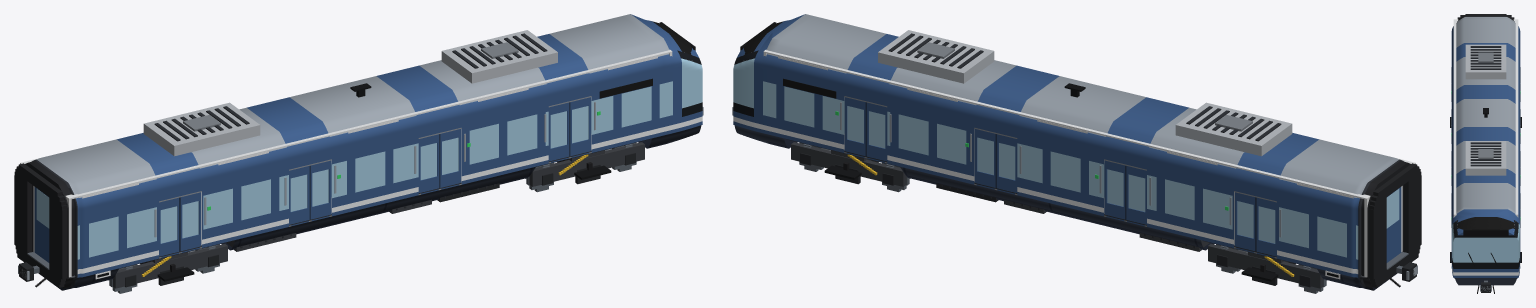
File: moskva_front.obj
3 renders of one model, left to right at view 1: azimuth 30°, elevation 25°; view 2: azimuth 150°, elevation 25°; view 3: azimuth 270°, elevation 25°, orthographic. The views are drawn at different scales.
Visible parts, largest first — view 1: SHELL, SHELL_roof, SHELL_diaphragm, BOGEY_FRONT, BOGEY_REAR, SHELL_ceiling, FRAME, EXTERNAL_DOOR_21_CG_DR4_TOGGLE_TL_-0.59_X, EXTERNAL_DOOR_15_CG_DR3_TOGGLE_TL_-0.59_X, EXTERNAL_DOOR_9_CG_DR2_TOGGLE_TL_-0.59_X, EXTERNAL_DOOR_3_CG_DR1_TOGGLE_TL_-0.59_X, EXTERNAL_DOOR_4_CG_DR1_TOGGLE_TL_0.59_X (+7 smaller); view 2: SHELL, SHELL_roof, SHELL_diaphragm, BOGEY_FRONT, BOGEY_REAR, SHELL_ceiling, FRAME, EXTERNAL_DOOR_24_CG_DL4_TOGGLE_TL_-0.59_X, EXTERNAL_DOOR_18_CG_DL3_TOGGLE_TL_-0.59_X, EXTERNAL_DOOR_12_CG_DL2_TOGGLE_TL_-0.59_X, EXTERNAL_DOOR_6_CG_DL1_TOGGLE_TL_-0.59_X, EXTERNAL_DOOR_7_CG_DL1_TOGGLE_TL_0.59_X (+7 smaller); view 3: SHELL, SHELL_roof, SHELL_ceiling, SHELL_destbox, SHELL_handle, FRAME.
Boxes of the visible parts, bbox=[...] form: SHELL: bbox=[25, 14, 702, 290]; SHELL_roof: bbox=[143, 30, 557, 156]; SHELL_diaphragm: bbox=[14, 163, 66, 287]; BOGEY_FRONT: bbox=[529, 142, 644, 186]; BOGEY_REAR: bbox=[112, 244, 227, 288]; SHELL_ceiling: bbox=[22, 16, 669, 199]; FRAME: bbox=[18, 107, 703, 287]; EXTERNAL_DOOR_21_CG_DR4_TOGGLE_TL_-0.59_X: bbox=[548, 102, 570, 161]; EXTERNAL_DOOR_15_CG_DR3_TOGGLE_TL_-0.59_X: bbox=[418, 134, 440, 192]; EXTERNAL_DOOR_9_CG_DR2_TOGGLE_TL_-0.59_X: bbox=[289, 165, 310, 224]; EXTERNAL_DOOR_3_CG_DR1_TOGGLE_TL_-0.59_X: bbox=[159, 197, 180, 256]; EXTERNAL_DOOR_4_CG_DR1_TOGGLE_TL_0.59_X: bbox=[180, 192, 201, 251]; SHELL: bbox=[733, 14, 1410, 290]; SHELL_roof: bbox=[878, 30, 1292, 156]; SHELL_diaphragm: bbox=[1369, 163, 1421, 287]; BOGEY_FRONT: bbox=[791, 142, 906, 186]; BOGEY_REAR: bbox=[1208, 244, 1323, 288]; SHELL_ceiling: bbox=[766, 16, 1413, 199]; FRAME: bbox=[732, 107, 1417, 287]; EXTERNAL_DOOR_24_CG_DL4_TOGGLE_TL_-0.59_X: bbox=[865, 102, 887, 161]; EXTERNAL_DOOR_18_CG_DL3_TOGGLE_TL_-0.59_X: bbox=[995, 134, 1017, 192]; EXTERNAL_DOOR_12_CG_DL2_TOGGLE_TL_-0.59_X: bbox=[1125, 165, 1146, 224]; EXTERNAL_DOOR_6_CG_DL1_TOGGLE_TL_-0.59_X: bbox=[1255, 197, 1276, 256]; EXTERNAL_DOOR_7_CG_DL1_TOGGLE_TL_0.59_X: bbox=[1234, 192, 1255, 251]; SHELL: bbox=[1451, 14, 1520, 285]; SHELL_roof: bbox=[1465, 44, 1506, 175]; SHELL_ceiling: bbox=[1453, 20, 1518, 213]; SHELL_destbox: bbox=[1463, 229, 1508, 236]; SHELL_handle: bbox=[1451, 67, 1520, 227]; FRAME: bbox=[1477, 280, 1494, 293].
Size of the model in its own units: 20.44 by 3.96 by 2.84.
Materials: 1 (1 with a texture image).
